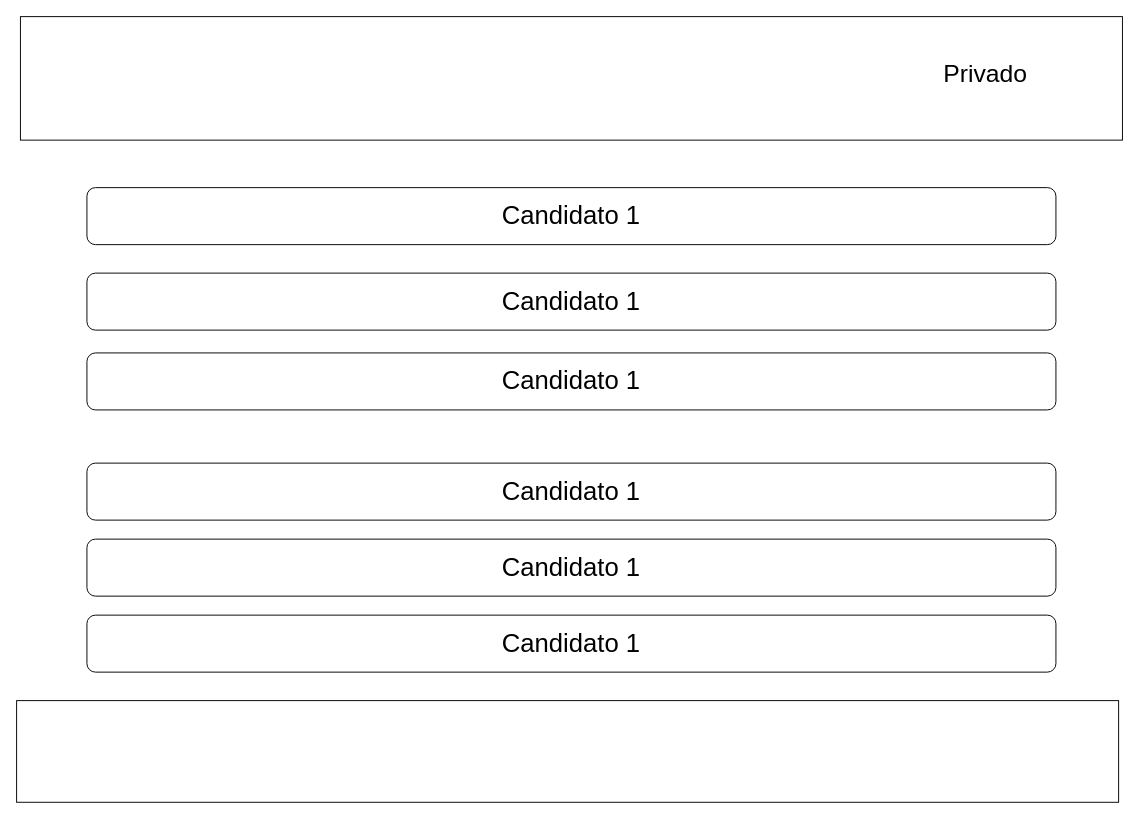
Image size: 1139x819. Some labels were removed from this diagram. Each missing label, with the box of its shape:
FOOTER: (16, 700, 1119, 802)
LOGO: (19, 16, 1122, 140)
